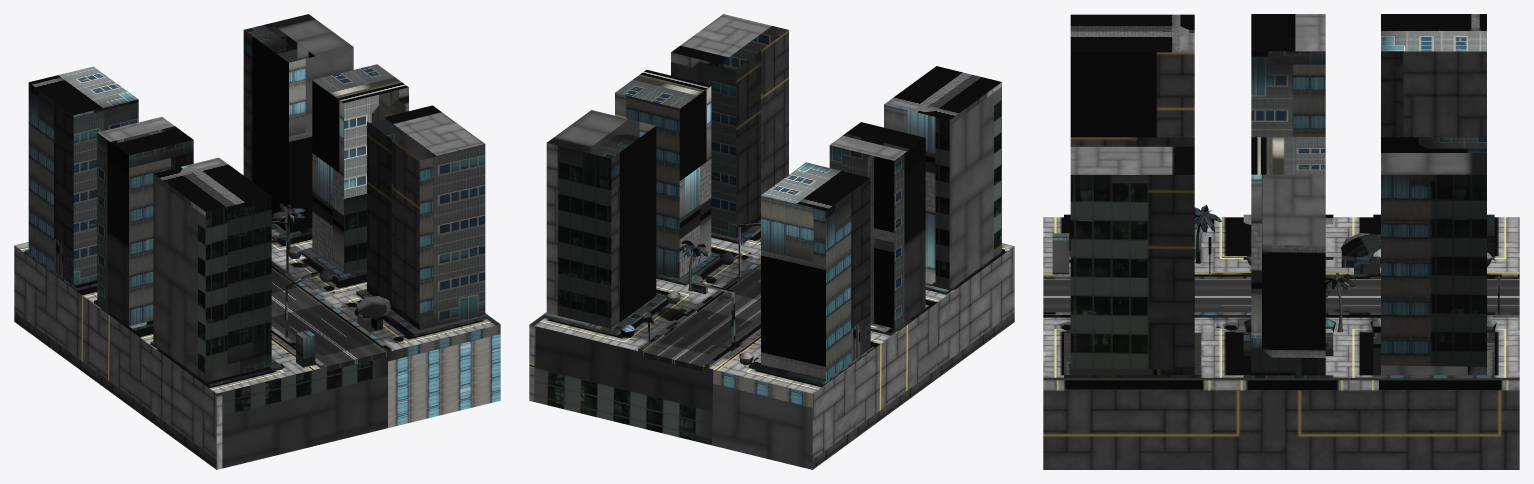
File: ExportedBlenderFBXFile.fbx
The picture shows the model from 3 angles, left to right: view 1: azimuth 30°, elevation 25°; view 2: azimuth 150°, elevation 25°; view 3: azimuth 270°, elevation 25°; orthographic projection. The views are drawn at different scales.
Visible parts, largest first — view 1: Cube; view 2: Cube; view 3: Cube.
Part boxes in pixels (x1=…): Cube: x1=14, y1=14, x2=500, y2=469; Cube: x1=529, y1=14, x2=1014, y2=469; Cube: x1=1043, y1=14, x2=1519, y2=469.
Bounding box in the file's own units: 60.06 × 50.38 × 74.15.
